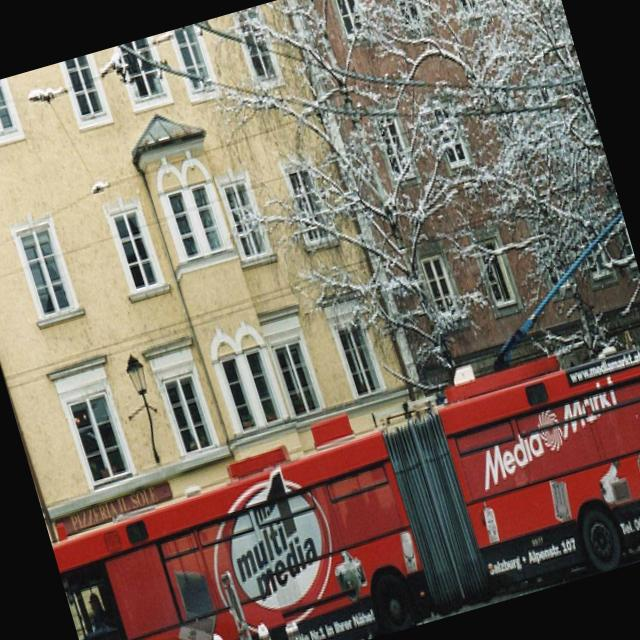Vehicle: (38, 324, 640, 640)
